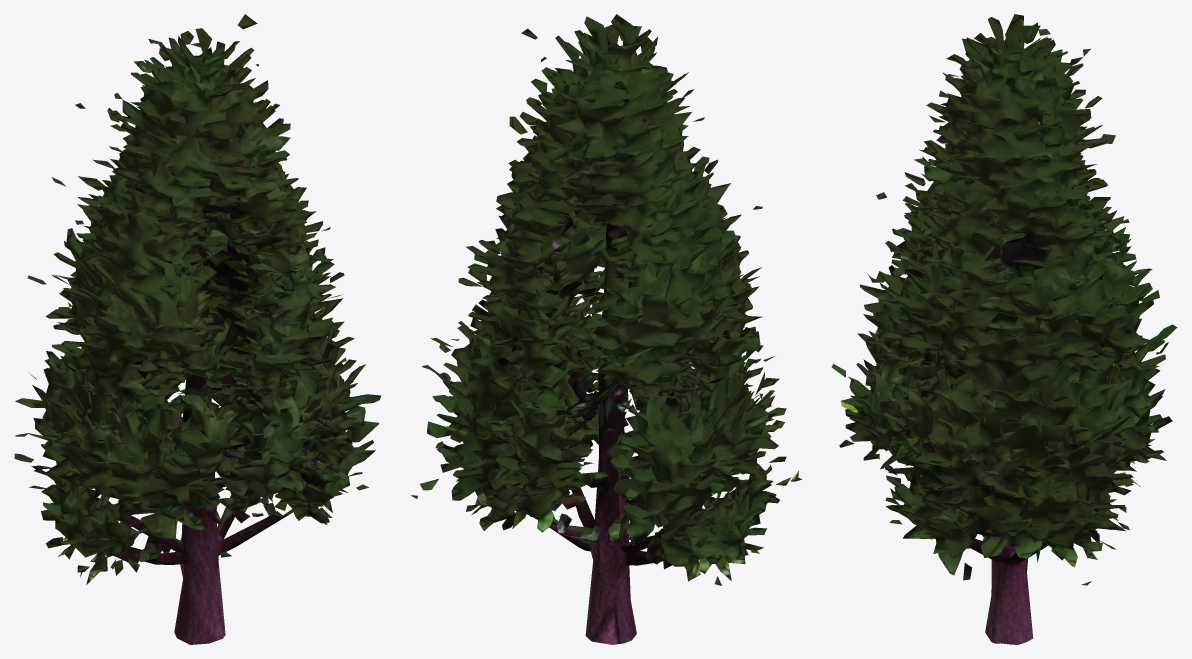
File: prunus.glb
3 views of the same model, side by side, from view 1: azimuth 30°, elevation 25°; view 2: azimuth 150°, elevation 25°; view 3: azimuth 270°, elevation 25° (orthographic). The views are drawn at different scales.
Parts seen in each view (by area): view 1: world; view 2: world; view 3: world.
Boxes of the visible parts, bbox=[...] form: world: bbox=[14, 14, 380, 644]; world: bbox=[411, 14, 802, 644]; world: bbox=[831, 14, 1177, 644].
Bounding box in the file's own units: 1.09 × 1.99 × 1.03.
Materials: 1 (1 with a texture image).
